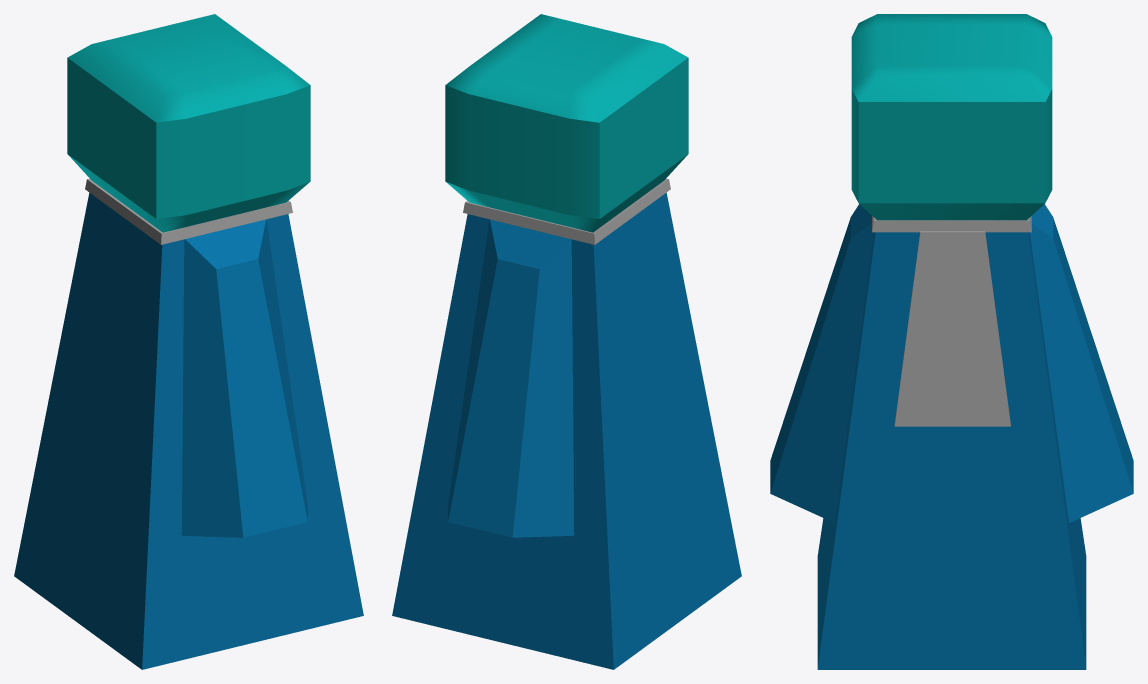
File: CORR-E-AI_0001.fbx
3 renders of one model, left to right at view 1: azimuth 30°, elevation 25°; view 2: azimuth 150°, elevation 25°; view 3: azimuth 270°, elevation 25°, orthographic. The views are drawn at different scales.
Visible parts, largest first — view 1: pCube3; view 2: pCube3; view 3: pCube3.
Boxes of the visible parts, <box> form: pCube3: <box>14,14,363,669</box>; pCube3: <box>392,14,741,669</box>; pCube3: <box>770,14,1133,669</box>.
Bounding box in the file's own units: 1.57 × 3.66 × 2.13.
